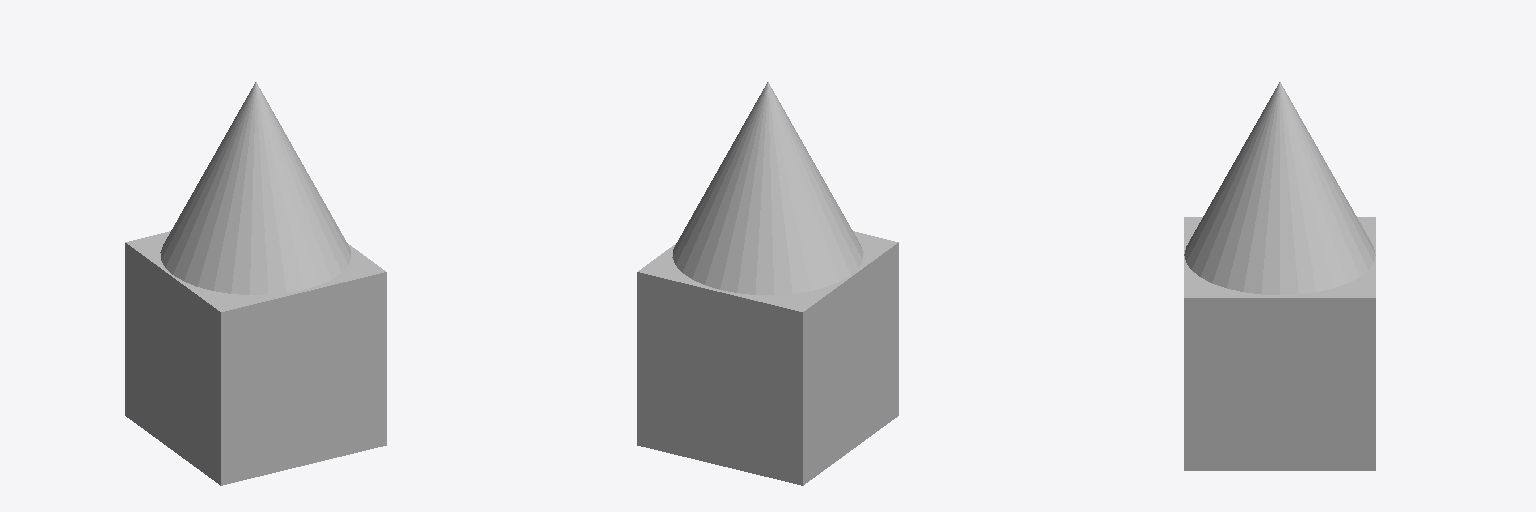
The model's file is tipi2.obj.
3 renders of one model, left to right at view 1: azimuth 30°, elevation 25°; view 2: azimuth 150°, elevation 25°; view 3: azimuth 270°, elevation 25°, orthographic.
Parts seen in each view (by area): view 1: Cube; view 2: Cube; view 3: Cube.
Boxes of the visible parts, <box> form: Cube: <box>125,82,386,485</box>; Cube: <box>637,82,898,485</box>; Cube: <box>1184,82,1375,470</box>.
Size of the model in its own units: 2 by 4.03 by 2.